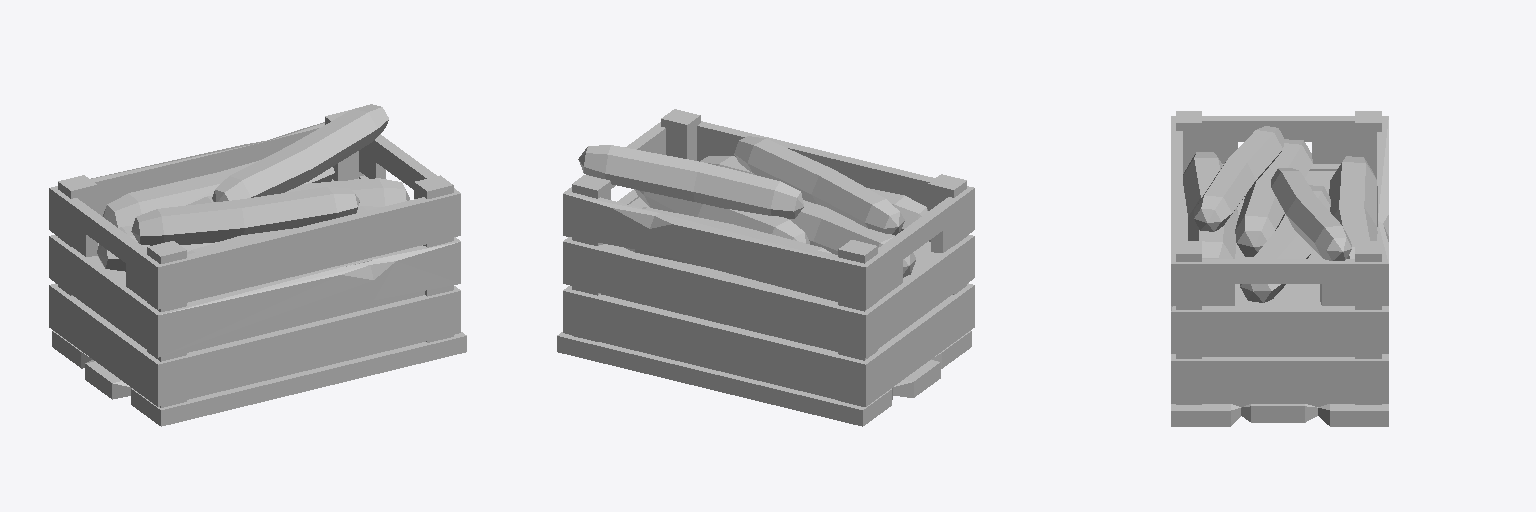
The model's file is SM_Prop_Box_Cucumber_01.obj.
3 renders of one model, left to right at view 1: azimuth 30°, elevation 25°; view 2: azimuth 150°, elevation 25°; view 3: azimuth 270°, elevation 25°, orthographic.
Bounding box in the file's own units: 75.93 × 43.35 × 45.26.